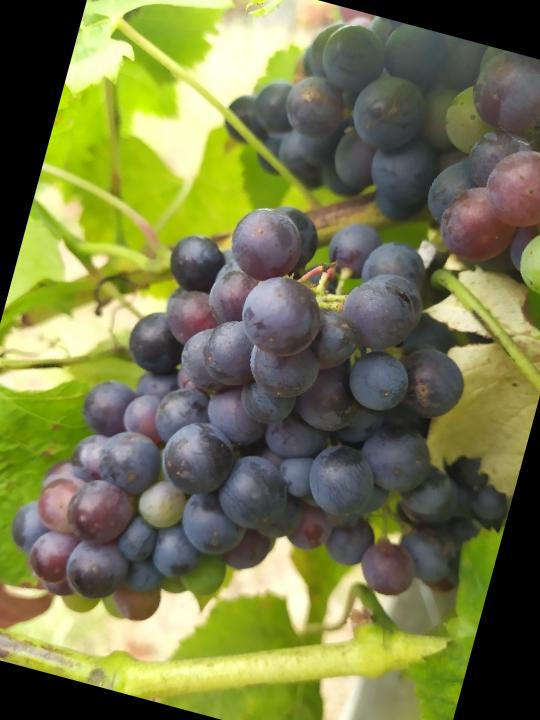grape: (0, 153, 503, 698)
